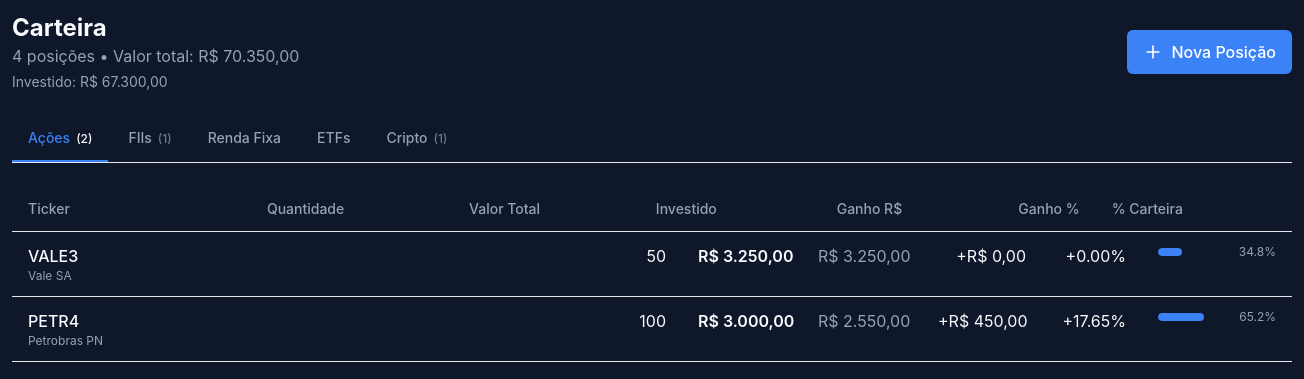
CarteiraPage › should show empty state when no positions in selected asset class
The image size is (1304, 379).
Expected: the text "PETR4" is shown, [28, 311, 79, 331]
Note: Click on Renda Fixa tab (no positions)
Click the tab "Renda Fixa" at (244, 139), box [192, 116, 297, 162]
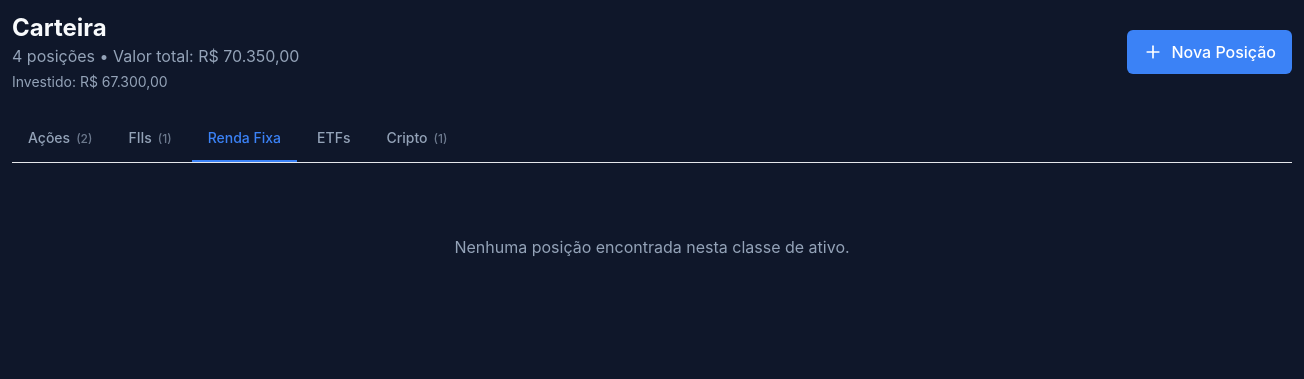
Expected: the text "Nenhuma posição encontrada nesta classe de ativo." is shown, [454, 237, 850, 257]
